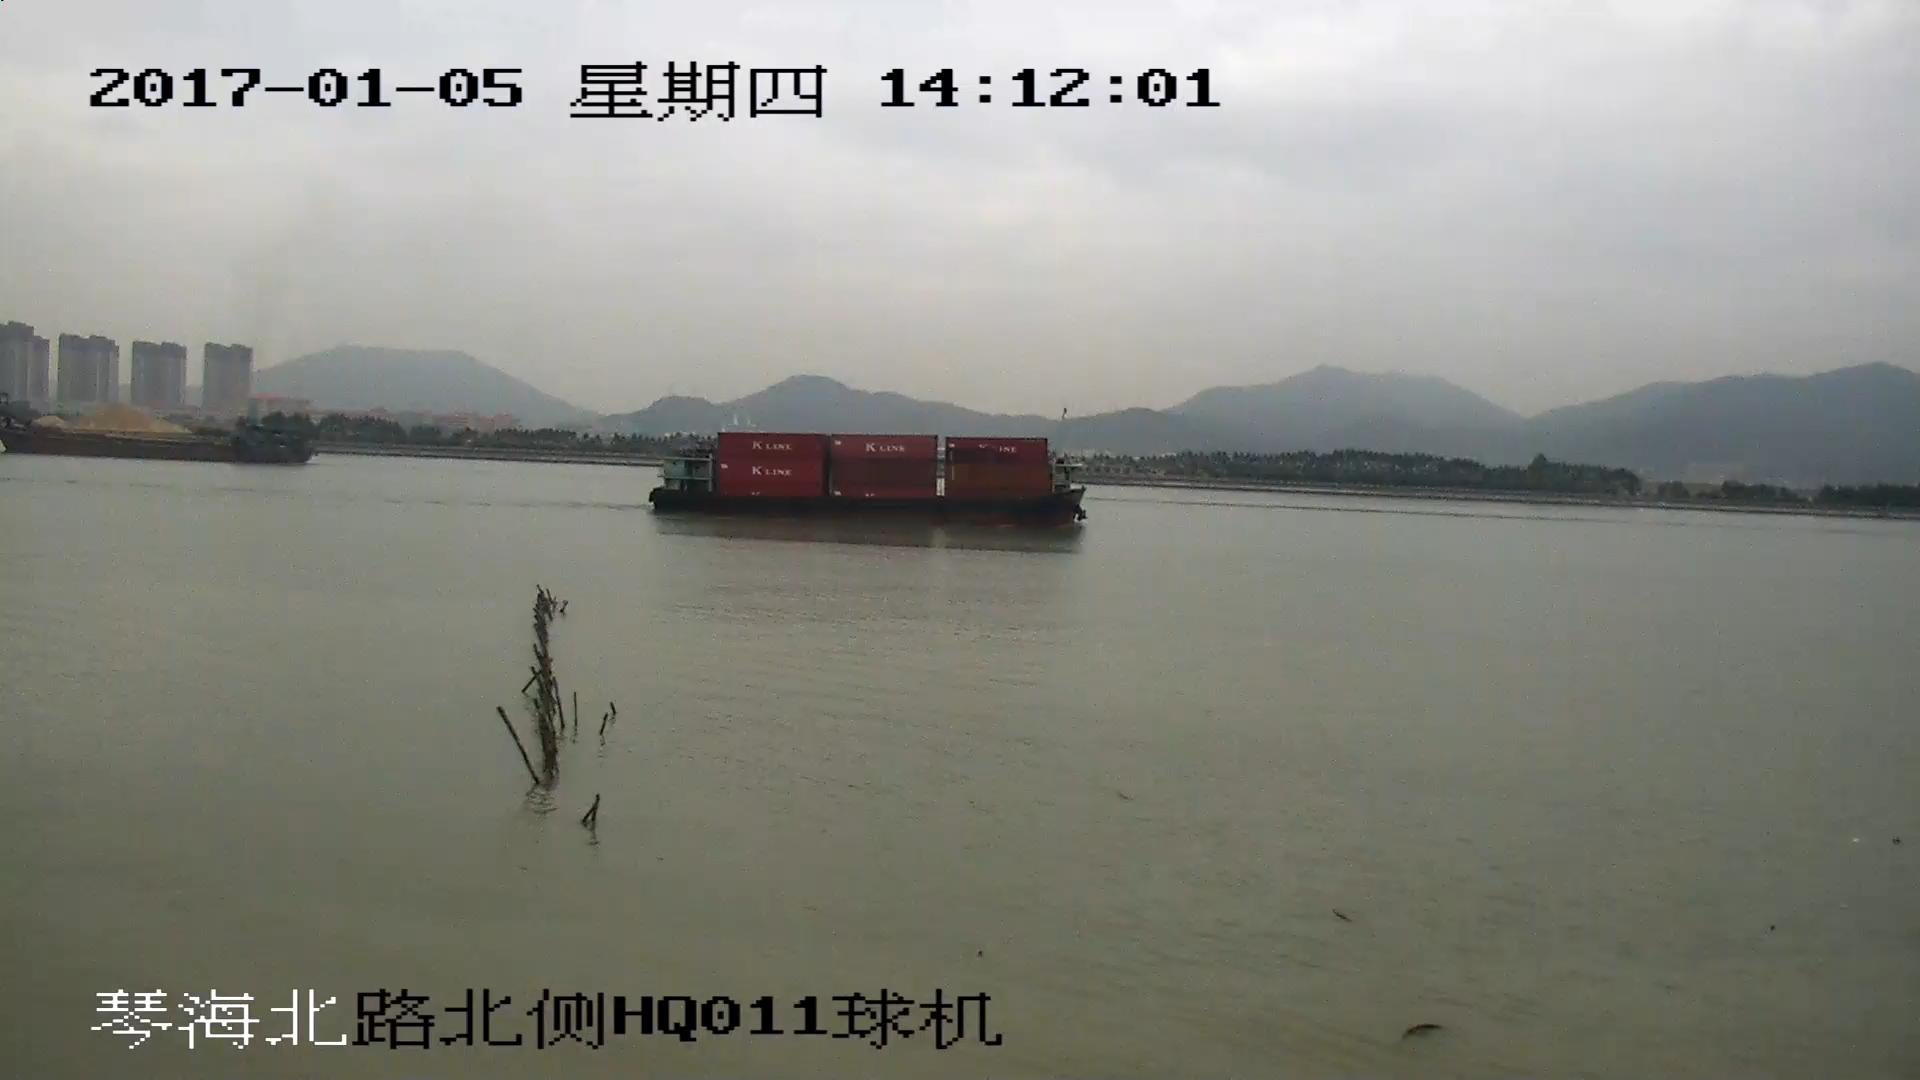bulk cargo carrier: (1, 418, 316, 468)
container ship: (643, 432, 1087, 536)
